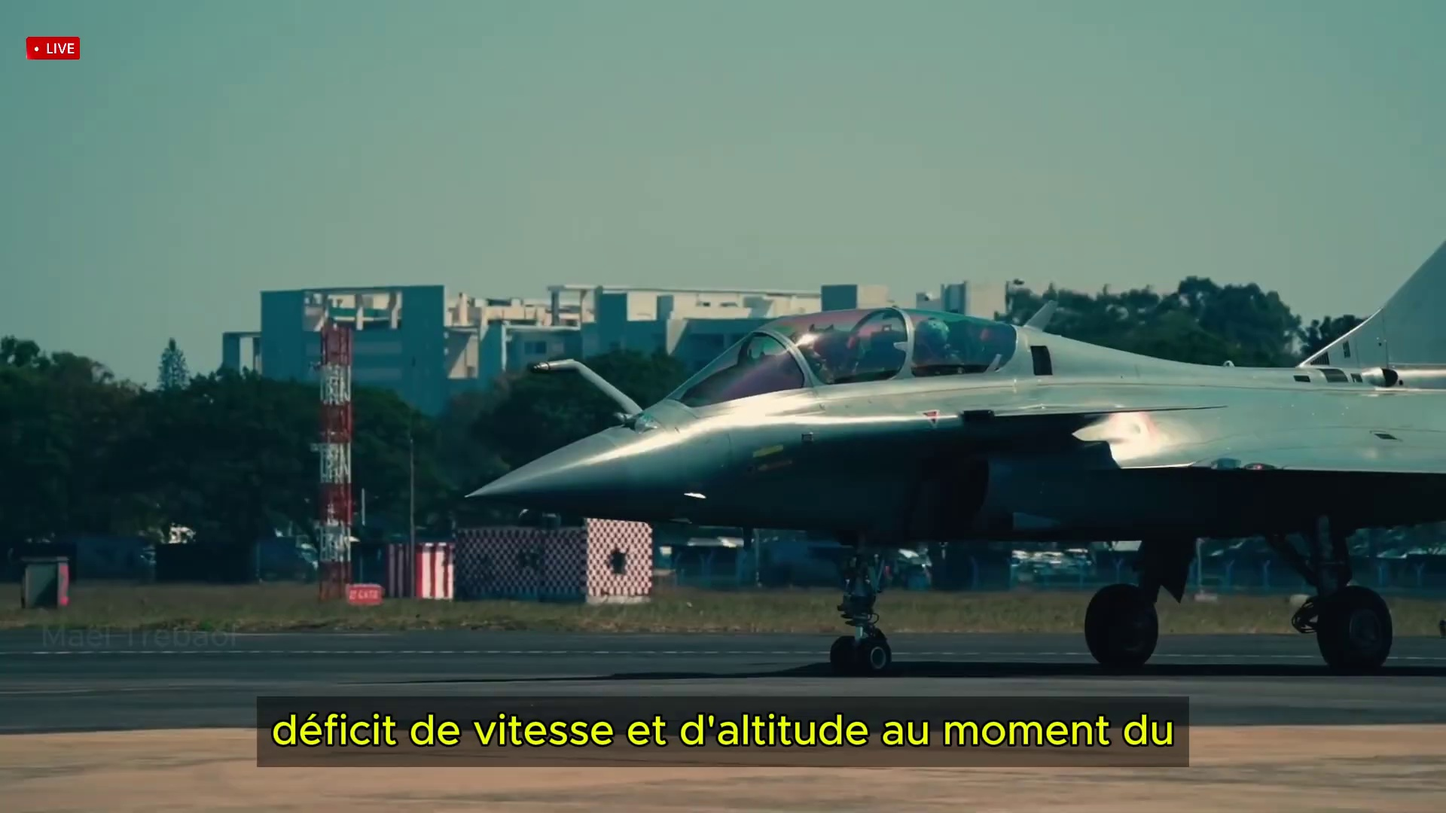Rafale: (485, 186, 1432, 675)
